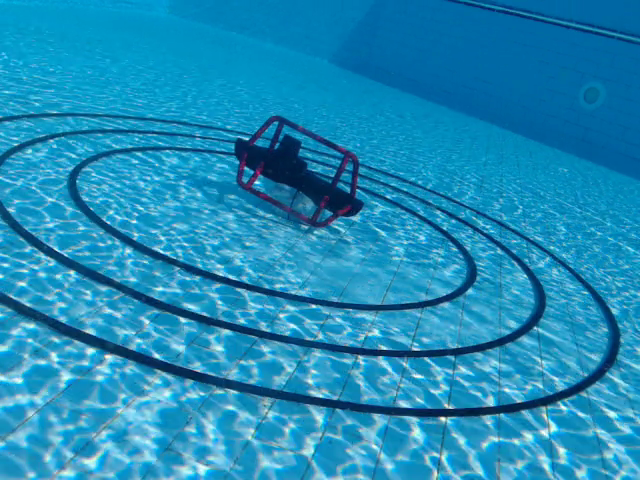submarine: (231, 113, 365, 230)
